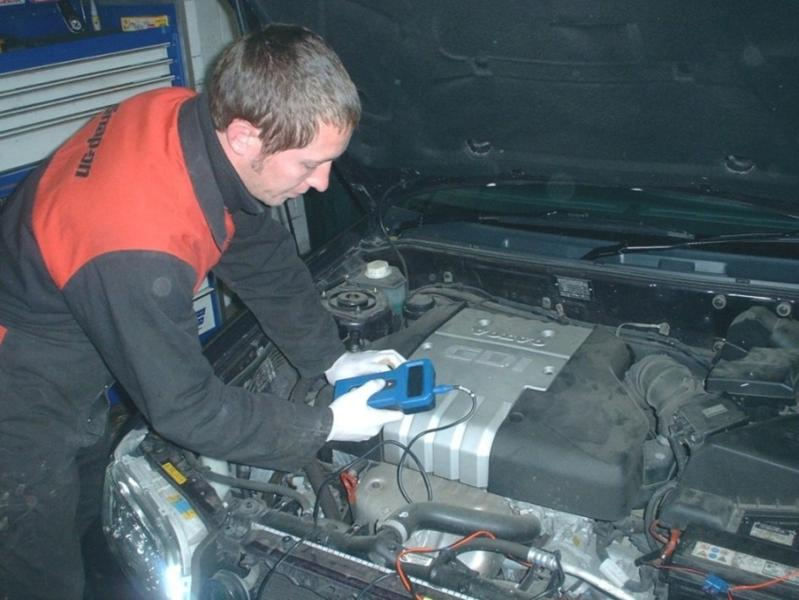person: (3, 24, 410, 599)
